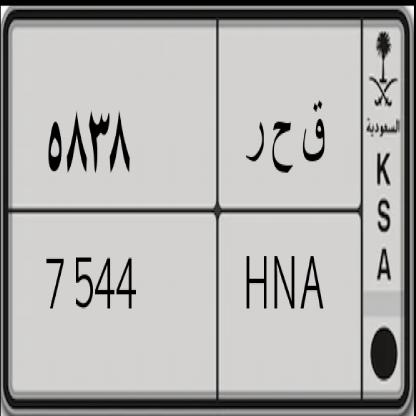english: (4, 173, 366, 416)
